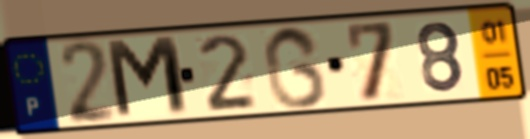2: (57, 34, 120, 132), (196, 32, 262, 115)
7: (344, 19, 401, 105)
8: (414, 19, 468, 96)
G: (260, 23, 330, 112)
M: (102, 33, 194, 123)
